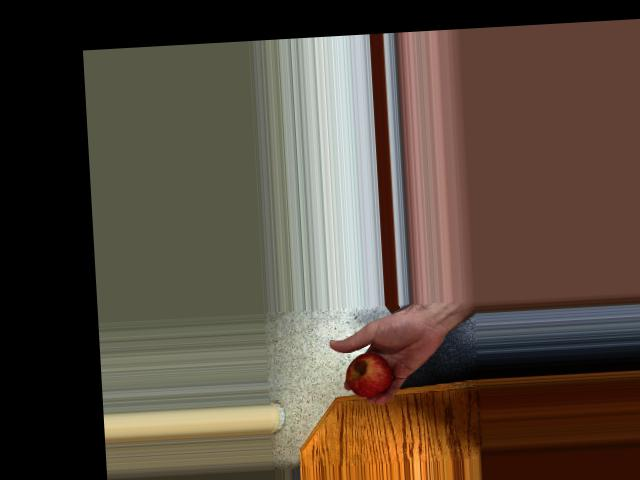apple: (343, 347, 398, 398)
